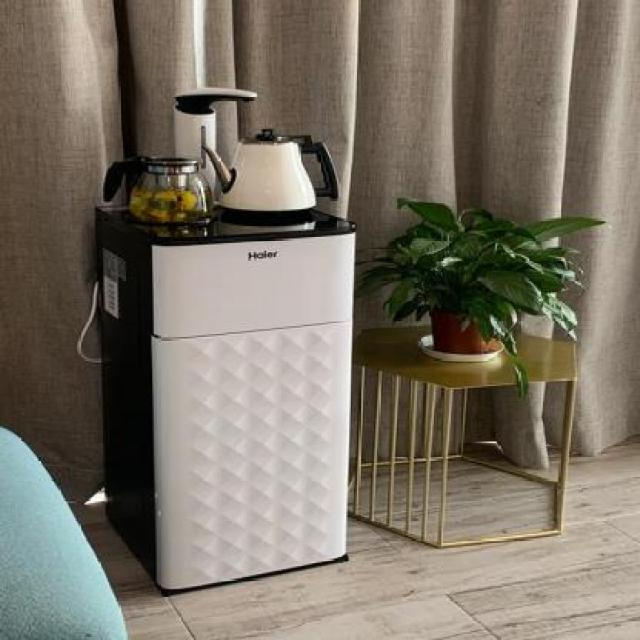cooler: (88, 197, 348, 594)
